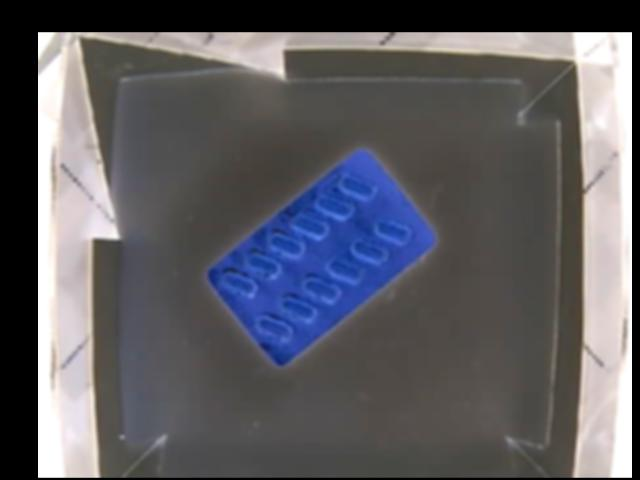Medicine: (205, 150, 441, 367)
